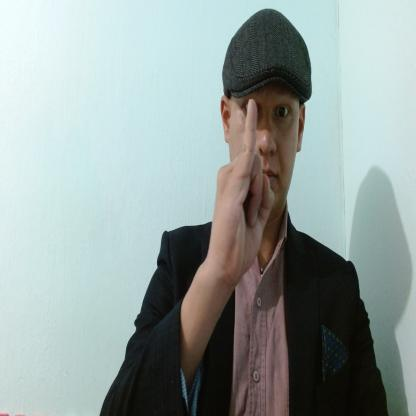I: (208, 100, 276, 288)
